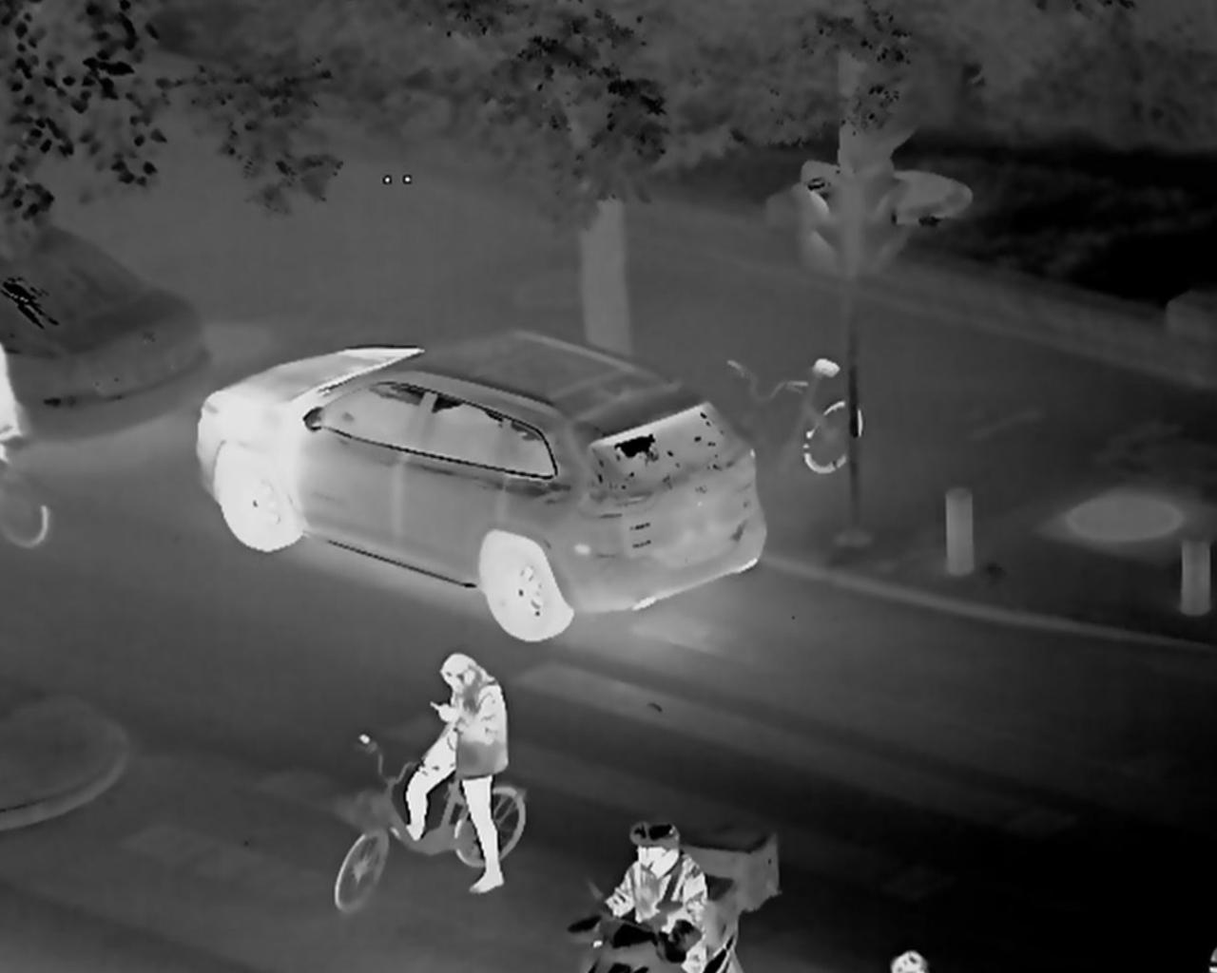person: (391, 652, 512, 896), (576, 823, 712, 972)
